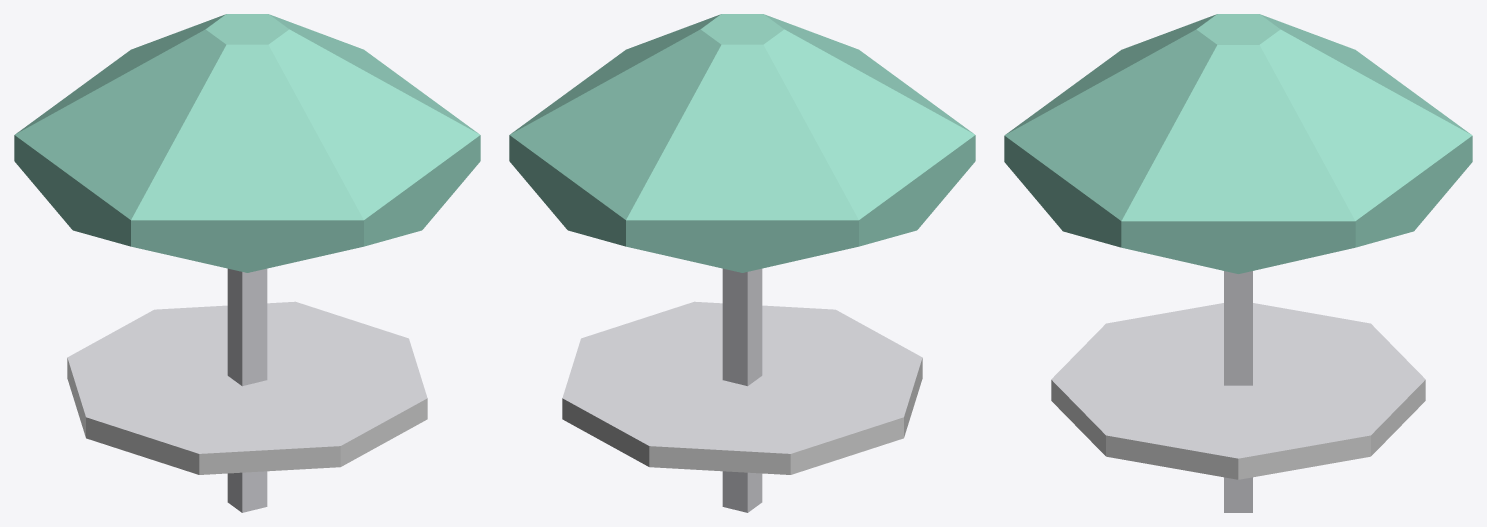
File: detail_umbrellaDetailed.glb
3 renders of one model, left to right at view 1: azimuth 30°, elevation 25°; view 2: azimuth 150°, elevation 25°; view 3: azimuth 270°, elevation 25°, orthographic.
Parts seen in each view (by area): view 1: detail_umbrellaDetailed; view 2: detail_umbrellaDetailed; view 3: detail_umbrellaDetailed.
Part boxes in pixels (x1=…): detail_umbrellaDetailed: x1=14, y1=14, x2=480, y2=512; detail_umbrellaDetailed: x1=509, y1=14, x2=975, y2=512; detail_umbrellaDetailed: x1=1004, y1=14, x2=1472, y2=512.
Size of the model in its own units: 0.3464 by 0.45 by 0.4.
